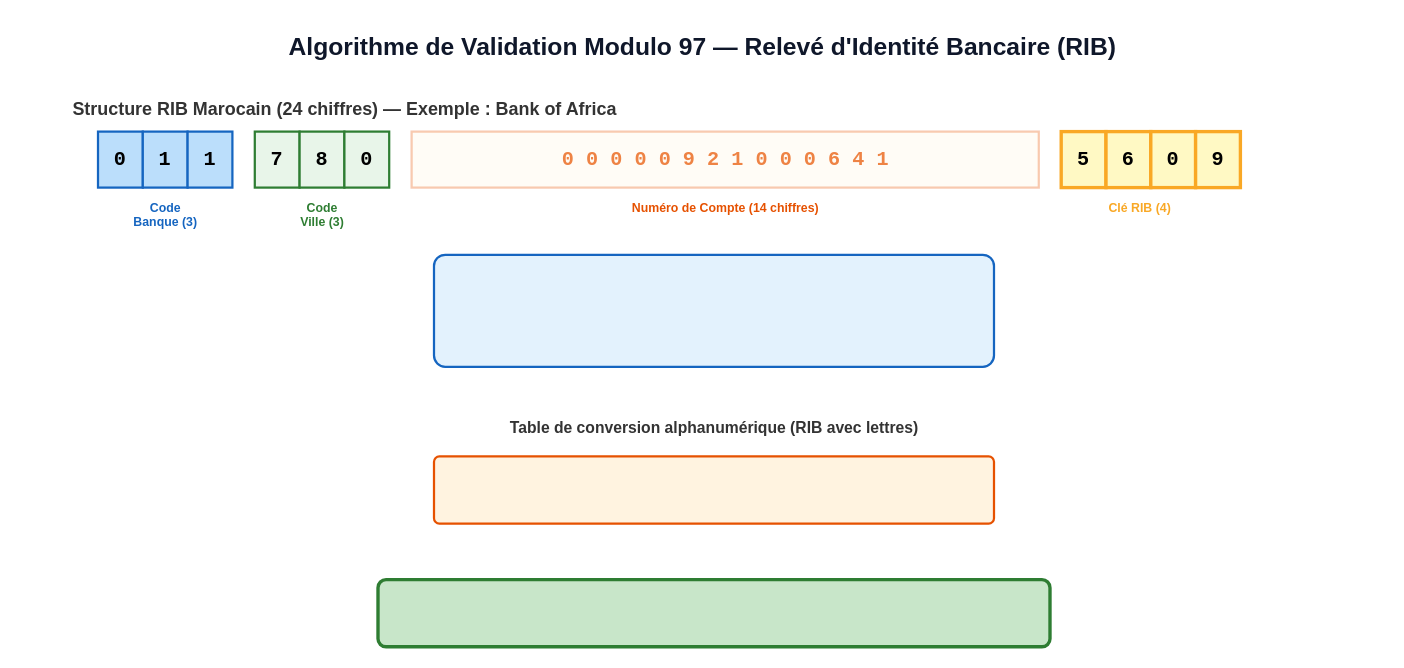
The diagram is 1404 pixels wide and 668 high, and some of its shapes have lost their labels. Each missing label, with the centre of its shape:
"A/J=1 B/K/S=2 C/L/T=3 D/M/U=4 E/N/V=5 F/O/W=6 G/P/X=7 H/Q/Y=8 I/R/Z=9" belongs at (713,489).
"Formule ISO 7064 : RIB₂₄ mod 97 = 0 011780000009210006415609 mod 97 = 0 ✓" belongs at (713,310).
"✓ RIB est VALIDE si le nombre entier de 24 chiffres est divisible par 97" belongs at (713,612).
